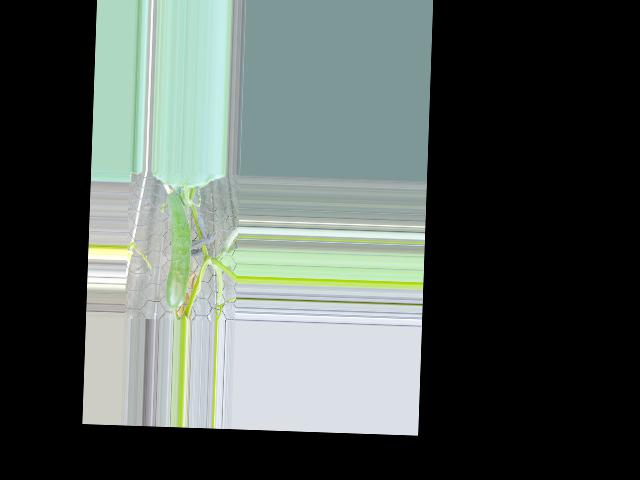cucumber: (164, 193, 193, 308)
